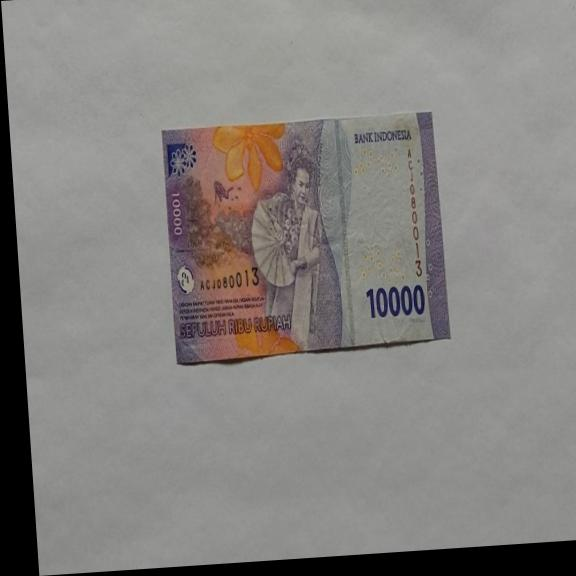Kertas: (159, 109, 451, 367), (364, 281, 427, 322)
